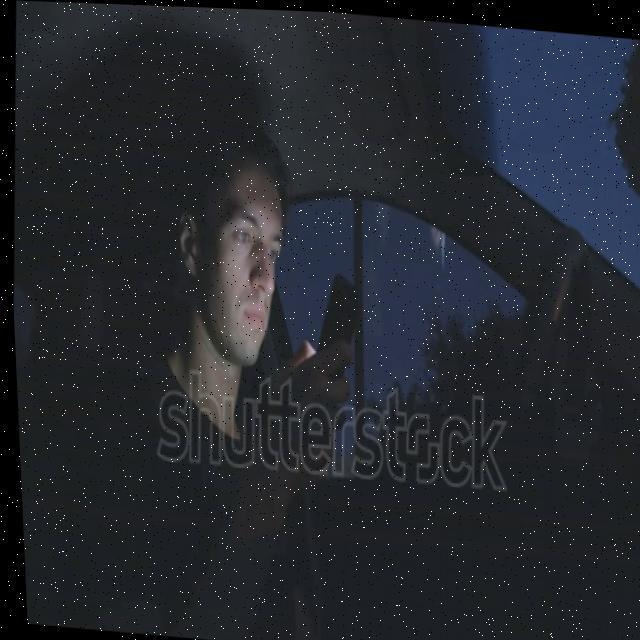PhoneCall: (312, 272, 360, 396)
